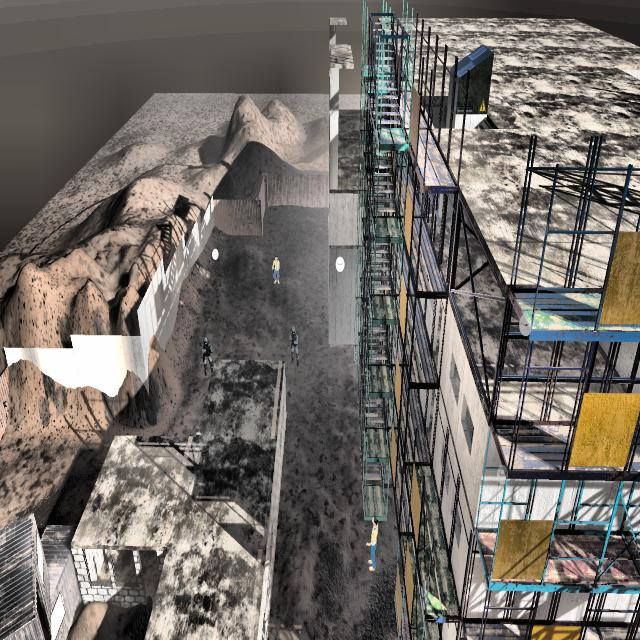bad: (286, 321, 303, 375), (197, 332, 216, 378)
good: (362, 510, 381, 586), (267, 244, 283, 291)
